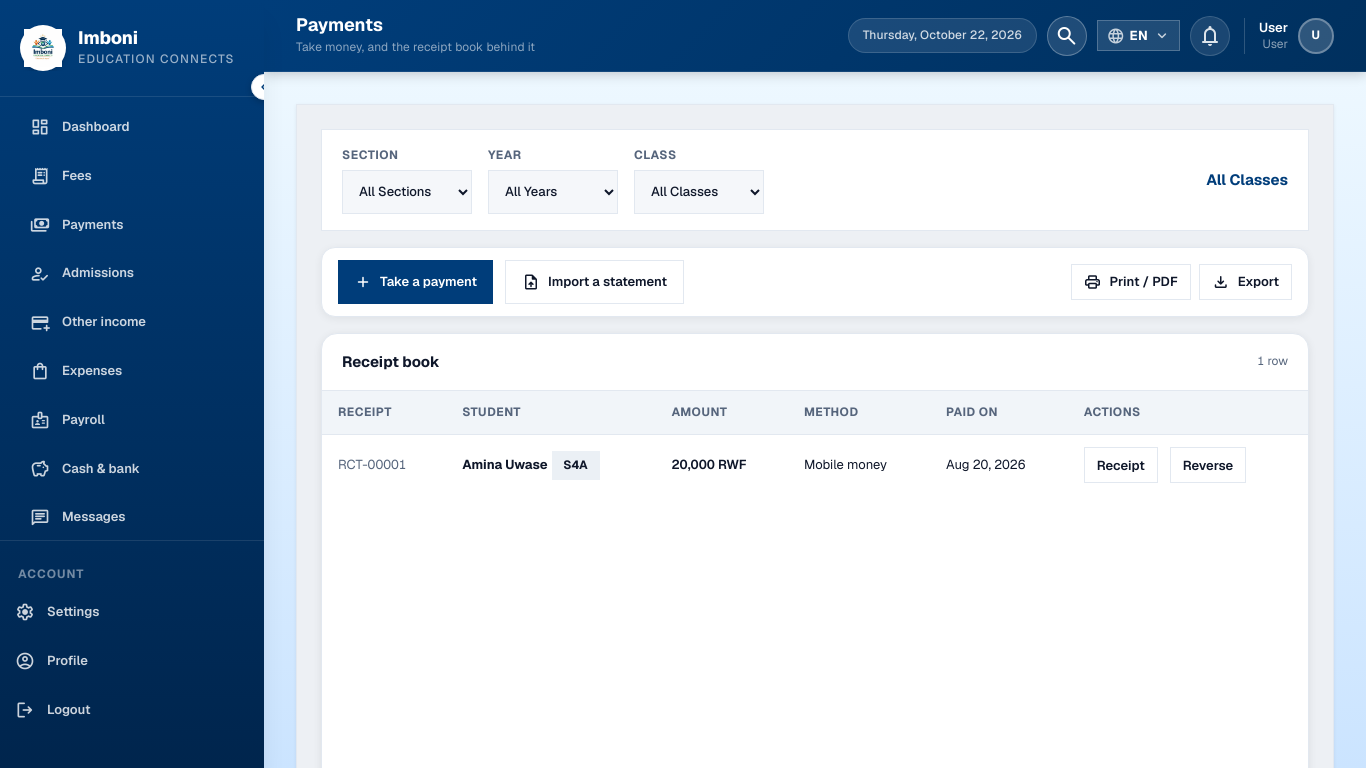
FinancePayments › will not take a payment until a charge and an amount are chosen
Expected: the text "RCT-00001" is shown, [338,456,407,473]
Click the button "Take a payment". click: (416, 282)
box: [338,260,493,304]
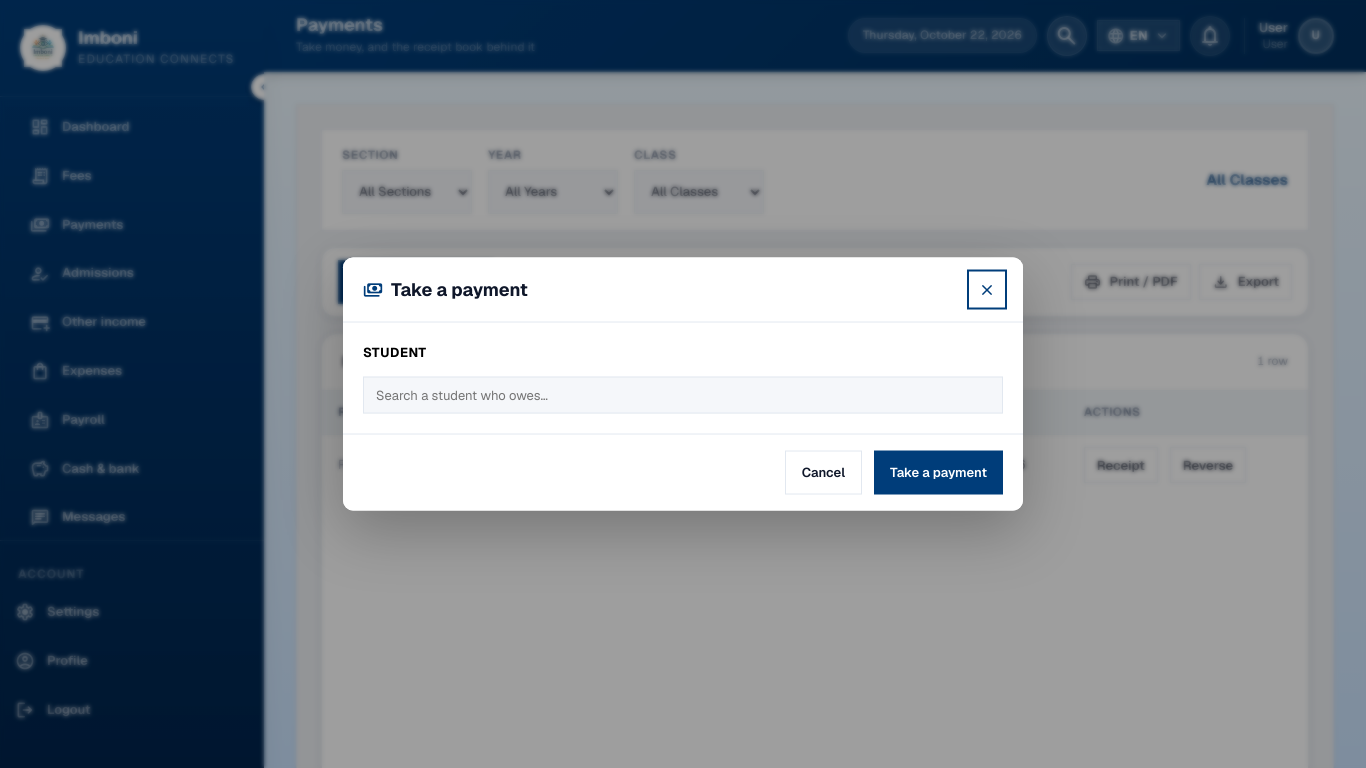
Result: the button "Take a payment" is disabled at [874,450,1003,494]
